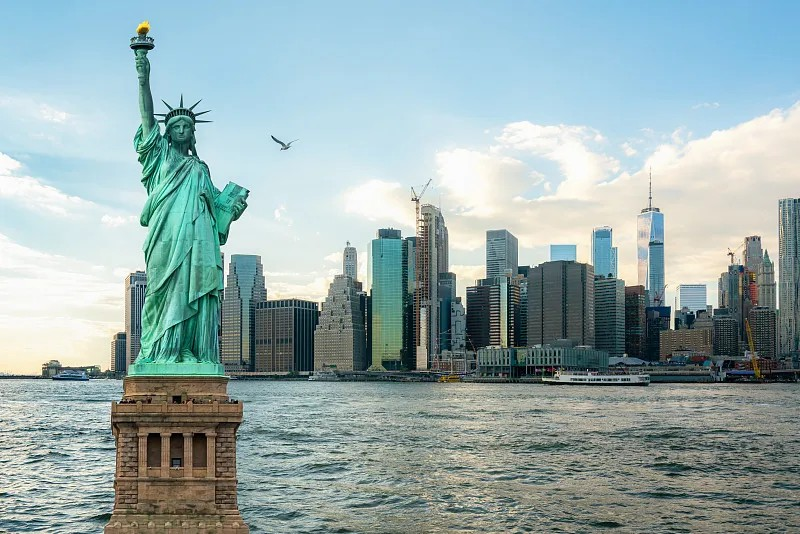SL: (104, 19, 249, 534)
